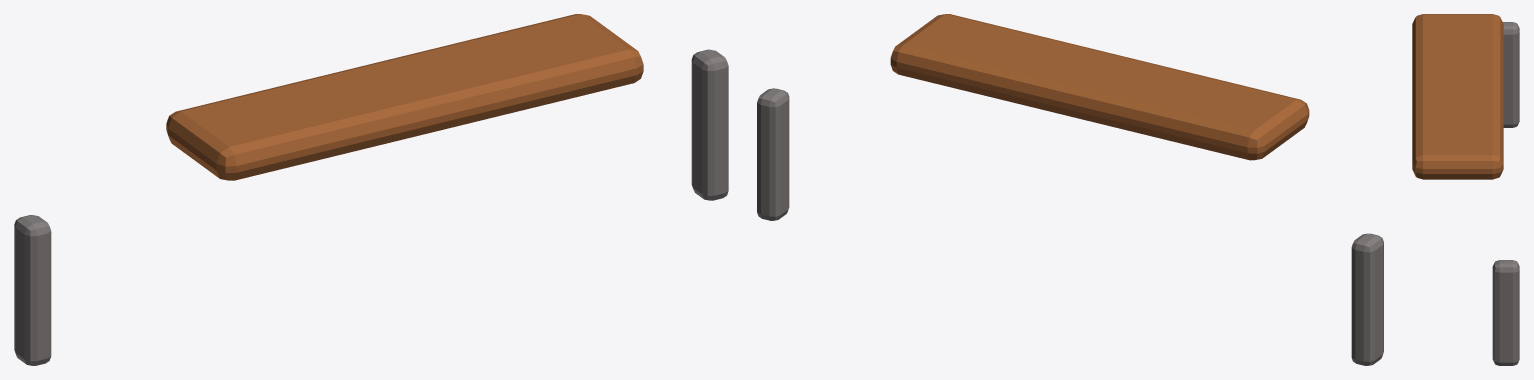
Rendered from PR3D_Environment_Shelf.fbx.
3 renders of one model, left to right at view 1: azimuth 30°, elevation 25°; view 2: azimuth 150°, elevation 25°; view 3: azimuth 270°, elevation 25°, orthographic. The views are drawn at different scales.
Visible parts, largest first — view 1: Visual_ShelfBoard, Visual_ShelfBracket_+1, Visual_ShelfBracket_-1; view 2: Visual_ShelfBoard, Visual_ShelfBracket_+1, Visual_ShelfBracket_-1; view 3: Visual_ShelfBoard, Visual_ShelfBracket_+1, Visual_ShelfBracket_-1.
Part boxes in pixels (box(x1,y1,x2,y2)): Visual_ShelfBoard: box(166, 14, 643, 180); Visual_ShelfBracket_+1: box(691, 49, 728, 200); Visual_ShelfBracket_-1: box(14, 215, 51, 365); Visual_ShelfBoard: box(890, 14, 1309, 160); Visual_ShelfBracket_+1: box(757, 88, 789, 220); Visual_ShelfBracket_-1: box(1351, 233, 1383, 365); Visual_ShelfBoard: box(1412, 14, 1503, 179); Visual_ShelfBracket_+1: box(1492, 260, 1519, 365); Visual_ShelfBracket_-1: box(1502, 22, 1519, 127).
Bounding box in the file's own units: 2.18 × 0.66 × 0.4.
